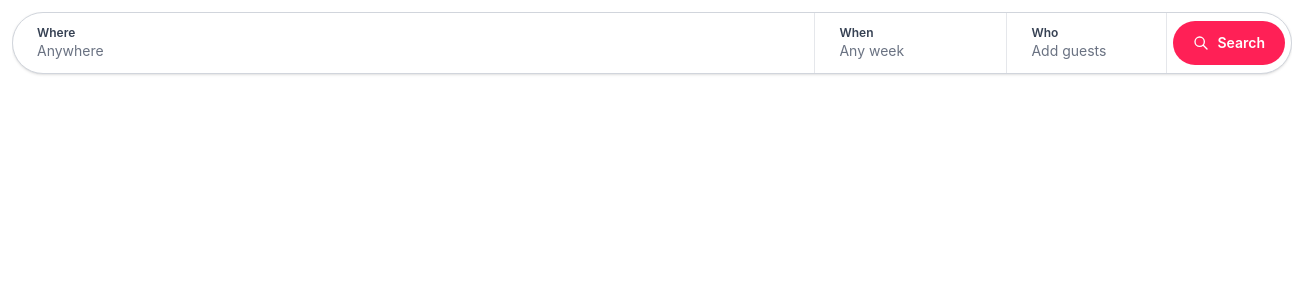
SearchBar panels › clicking "Add guests" opens the Who panel with an add guest button
Click the text "Add guests" at (1069, 50), box left=1032, top=42, right=1106, bottom=59
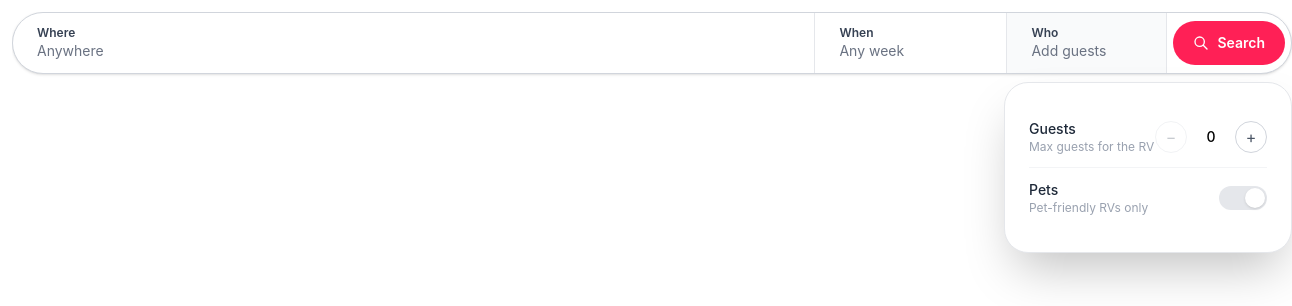
Check: the button named "Add guest" is shown, box left=1235, top=121, right=1267, bottom=153
